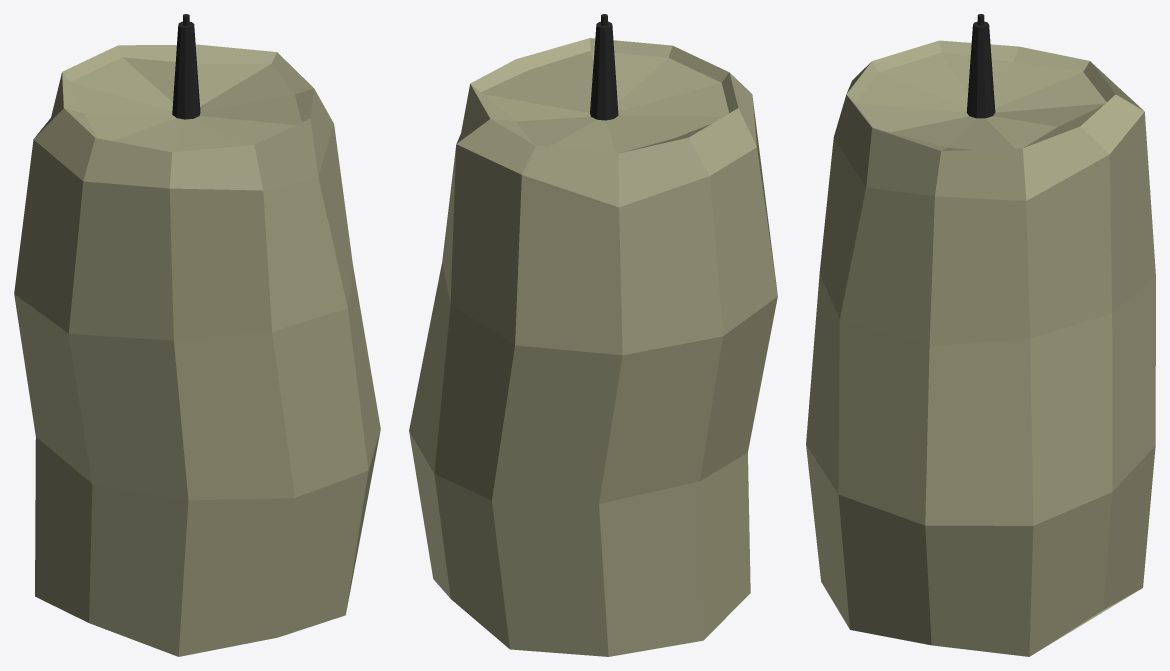
The model's file is Model7Pokoj.glb.
3 renders of one model, left to right at view 1: azimuth 30°, elevation 25°; view 2: azimuth 150°, elevation 25°; view 3: azimuth 270°, elevation 25°, orthographic.
Parts seen in each view (by area): view 1: Svíčka; view 2: Svíčka; view 3: Svíčka.
Part boxes in pixels (<box>): Svíčka: <box>14,14,380,656</box>; Svíčka: <box>409,14,777,656</box>; Svíčka: <box>806,14,1155,656</box>.
Bounding box in the file's own units: 2.04 × 3.61 × 2.
